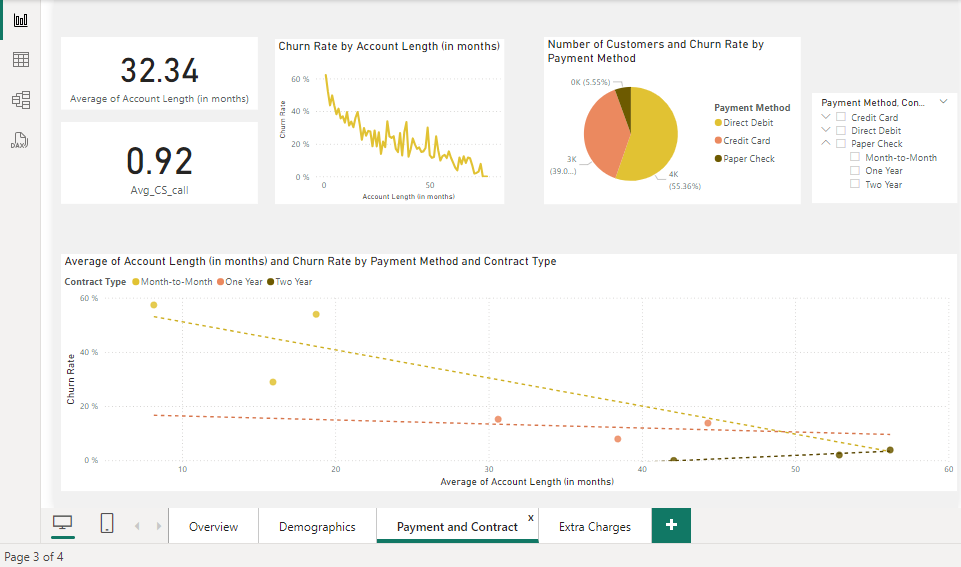

Layout of this report page (visuals, bound fields, positions):
{"tool":"powerbi","page":{"name":"Payment and Contract","canvas":[1280,720],"ordinal":7},"visuals":[{"type":"card","fields":{"Values":["Avg(Databel - Data.Account Length (in months))"]},"box":[9.9,52.4,279.2,103.5],"z":0},{"type":"lineChart","fields":{"Y":["Databel - Data.Churn Rate"],"Category":["Databel - Data.Account Length (in months)"]},"box":[312.9,55.8,324.6,233.9],"z":0},{"type":"pieChart","fields":{"Category":["Databel - Data.Payment Method"],"Y":["Databel - Data.Number of Customers"]},"box":[694.2,53.1,364.3,236.7],"z":1000},{"type":"card","fields":{"Values":["Databel - Data.Avg_CS_call"]},"box":[9.9,172.9,279.2,116.2],"z":1000},{"type":"scatterChart","fields":{"X":["Avg(Databel - Data.Account Length (in months))"],"Y":["Databel - Data.Churn Rate"],"Category":["Databel - Data.Payment Method"],"Series":["Databel - Data.Contract Type"]},"box":[9.9,360,1269.9,335.9],"z":2000},{"type":"slicer","fields":{"Values":["Databel - Data.Payment Method","Databel - Data.Contract Type"]},"box":[1074.3,131.8,205.5,155.9],"z":3000}]}

Visuals, with their boxes on the page's 1280x720 design canvas (x1, y1, x2, y2). These are canvas units, not pixel positions in the 961x567 screenshot, which may show the page scaled, cropped or inside an application window:
card - Avg(Databel - Data.Account Length (in months)): x1=10, y1=52, x2=289, y2=156
lineChart - Databel - Data.Churn Rate x Databel - Data.Account Length (in months): x1=313, y1=56, x2=638, y2=290
pieChart - Databel - Data.Payment Method x Databel - Data.Number of Customers: x1=694, y1=53, x2=1058, y2=290
card - Databel - Data.Avg_CS_call: x1=10, y1=173, x2=289, y2=289
scatterChart - Avg(Databel - Data.Account Length (in months)) x Databel - Data.Churn Rate: x1=10, y1=360, x2=1280, y2=696
slicer - Databel - Data.Payment Method x Databel - Data.Contract Type: x1=1074, y1=132, x2=1280, y2=288
